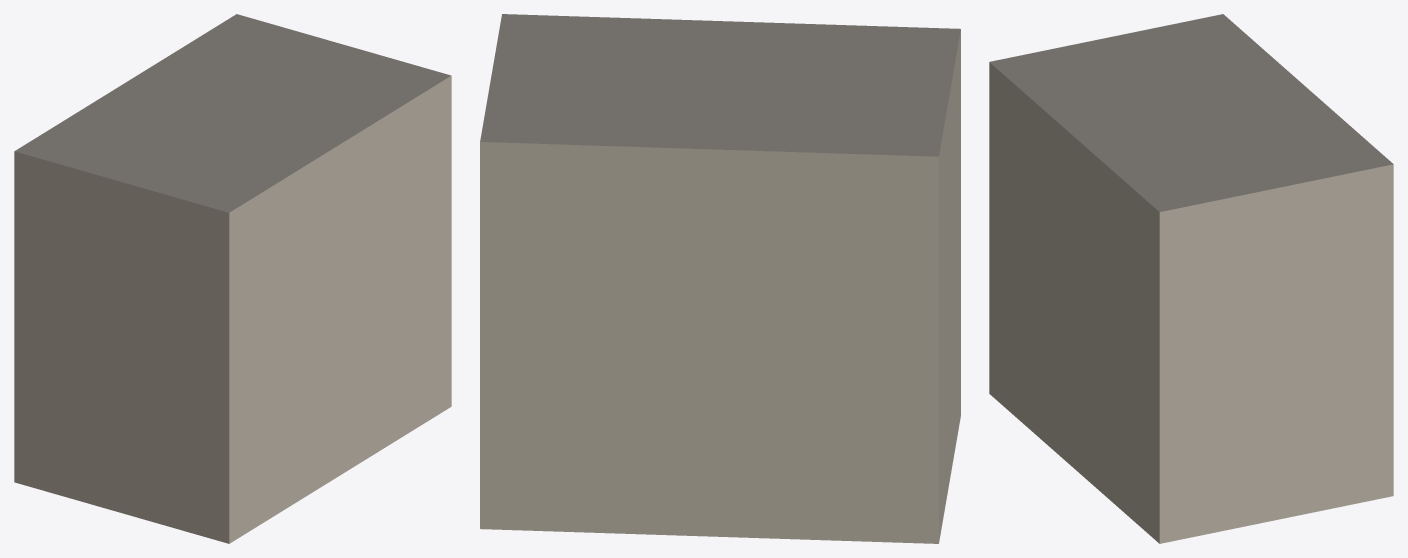
3 views of the same model, side by side, from view 1: azimuth 30°, elevation 25°; view 2: azimuth 150°, elevation 25°; view 3: azimuth 270°, elevation 25° (orthographic). The views are drawn at different scales.
Visible parts, largest first — view 1: HP-w1287260183; view 2: HP-w1287260183; view 3: HP-w1287260183.
Part boxes in pixels (x1,y1,x2,y2): HP-w1287260183: [14, 14, 451, 543]; HP-w1287260183: [480, 14, 960, 543]; HP-w1287260183: [989, 14, 1393, 543].
Bounding box in the file's own units: 23.06 × 18 × 19.89.
